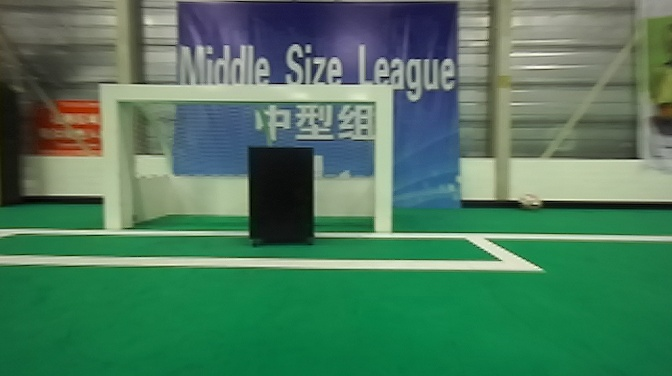goalpost: (95, 83, 136, 230), (371, 86, 395, 233)
